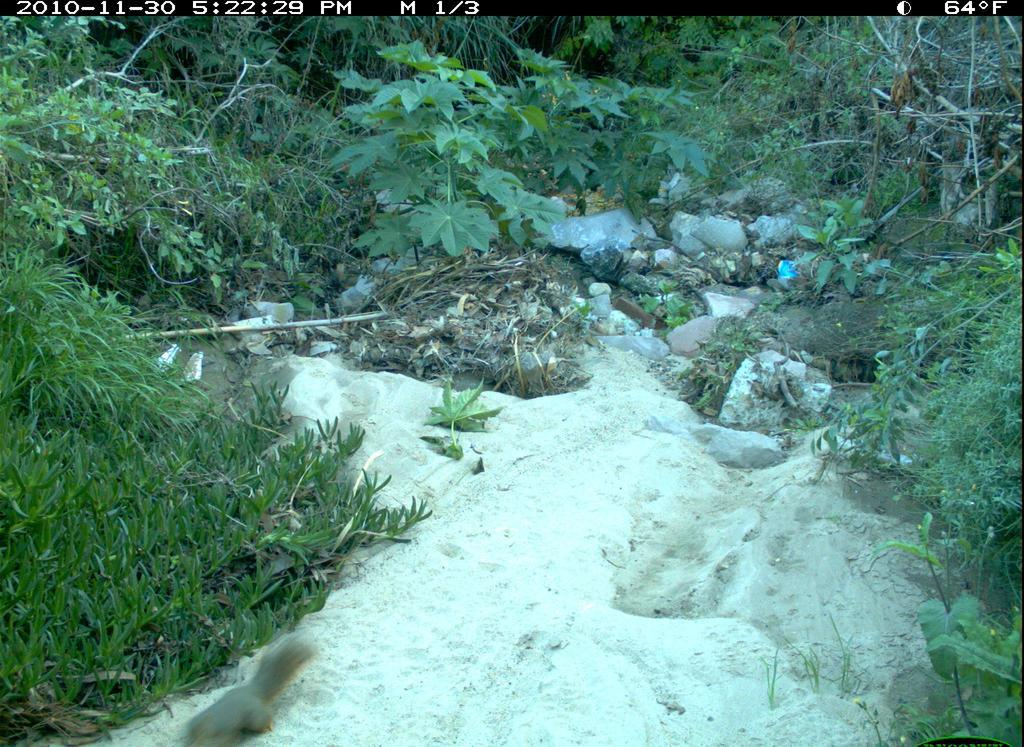squirrel: (150, 626, 337, 747)
